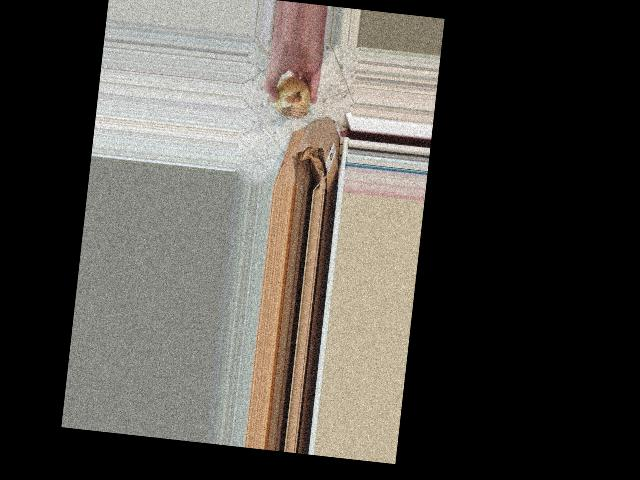onion: (264, 71, 314, 120)
